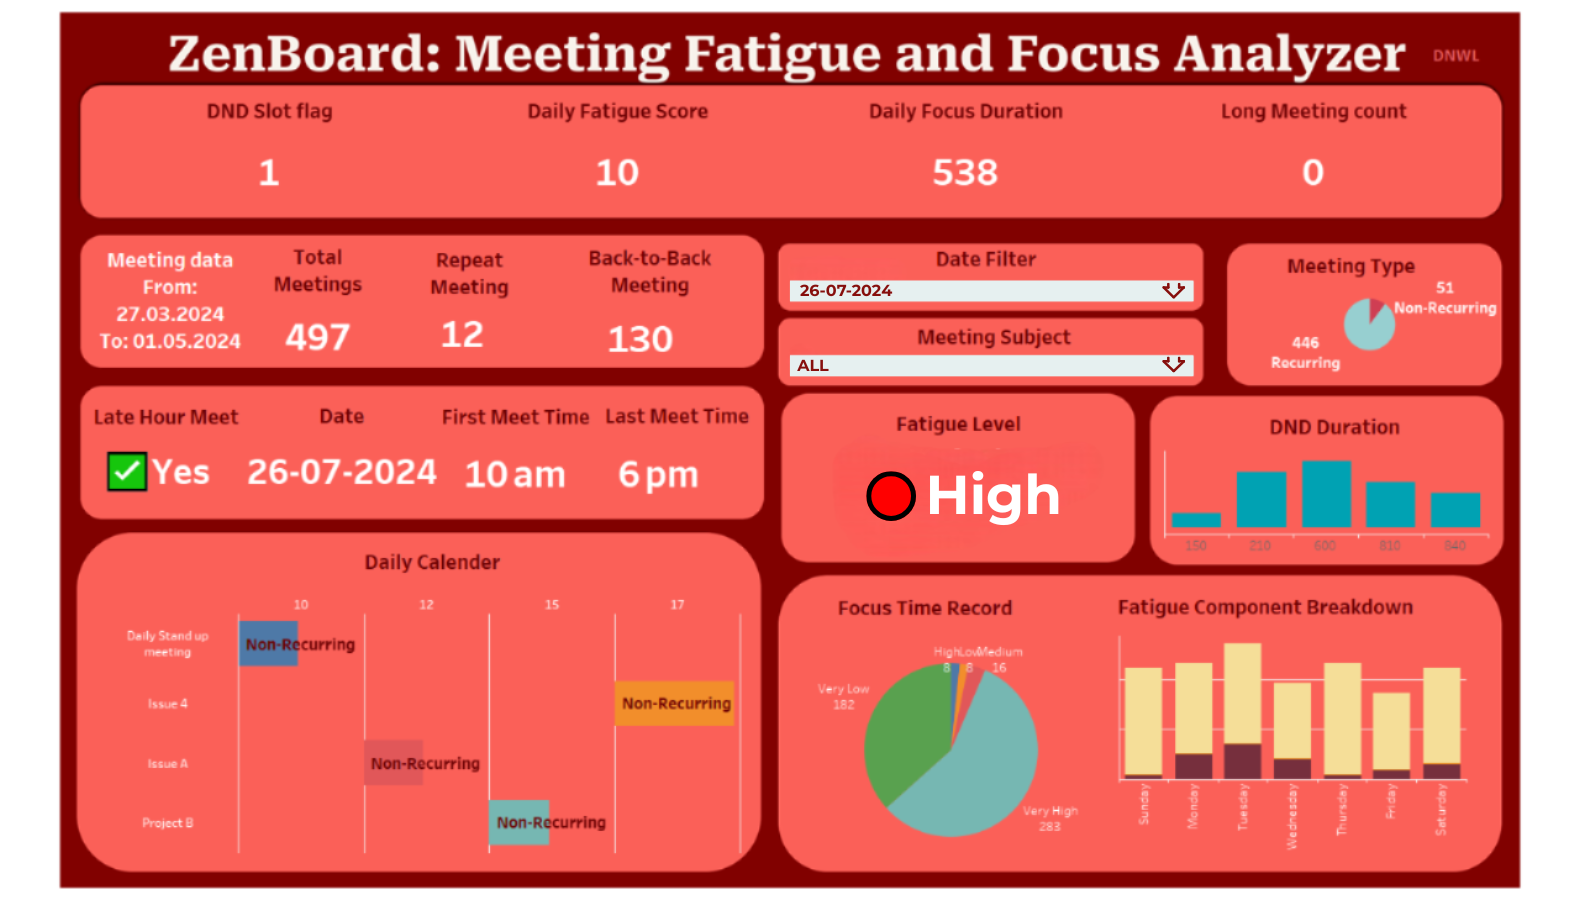

This screenshot's page, from the dashboard's own definition file:
{"tool":"tableau","page":{"name":"Dashboard 1","canvas":[1580,900],"ordinal":0},"visuals":[{"type":"image","param":"C:/Users/yasha/Downloads/Untitled presentation.png","box":[8,8,1564,884]},{"type":"dashboard-object","box":[1416,34,80,41]},{"type":"worksheet","title":"Sheet 5","mark":"Text","box":[96,90,1392,121]},{"type":"text","box":[549,224,202,93]},{"type":"text","box":[1267,228,168,74]},{"type":"text","box":[226,232,184,74]},{"type":"text","box":[388,235,163,74]},{"type":"text","box":[96,237,149,125]},{"type":"text","box":[933,243,106,30]},{"type":"worksheet","title":"Sheet 4","mark":"Pie","box":[1241,273,257,103]},{"type":"worksheet","title":"Sheet 12","mark":"Automatic","box":[433,292,88,83]},{"type":"worksheet","title":"Sheet 9","mark":"Automatic","box":[601,297,101,74]},{"type":"text","box":[910,305,168,62]},{"type":"worksheet","title":"Sheet 8","mark":"Automatic","box":[279,310,185,80]},{"type":"text","box":[867,381,183,84]},{"type":"text","box":[288,384,108,62]},{"type":"text","box":[598,384,158,62]},{"type":"text","box":[439,385,162,62]},{"type":"text","box":[1249,389,171,74]},{"type":"text","box":[91,395,155,42]},{"type":"worksheet","title":"Sheet 13","mark":"Automatic","box":[55,406,193,111]},{"type":"worksheet","title":"Sheet 6","mark":"Automatic","box":[833,429,243,134]},{"type":"worksheet","title":"Sheet 15","mark":"Automatic","box":[243,431,207,85]},{"type":"worksheet","title":"Sheet 11","mark":"Automatic","box":[456,432,155,114]},{"type":"worksheet","title":"Sheet 14","mark":"Automatic","box":[609,432,140,107]},{"type":"worksheet","title":"Sheet 7","mark":"Bar","rows":["Start Date"],"cols":["Calculation_443041633803968526"],"box":[1164,451,324,104]},{"type":"text","box":[344,524,177,74]},{"type":"text","box":[1115,569,368,74]},{"type":"text","box":[835,570,224,74]},{"type":"worksheet","title":"Sheet 1","mark":"GanttBar","rows":["Subject"],"cols":["Start Time"],"box":[98,594,643,259]},{"type":"worksheet","title":"Sheet 3","mark":"Bar","cols":["Start Date"],"box":[1119,636,347,223]},{"type":"worksheet","title":"Sheet 2","mark":"Pie","box":[799,641,304,218]}]}

Visuals, with their boxes in screenshot pixels (x1, y1, x2, y2), scaled from the page's 1580x900 canvas onto the 1580x900 screenshot:
image: l=8, t=8, r=1572, b=892
dashboard-object: l=1416, t=34, r=1496, b=75
"Sheet 5" worksheet (Text marks): l=96, t=90, r=1488, b=211
text: l=549, t=224, r=751, b=317
text: l=1267, t=228, r=1435, b=302
text: l=226, t=232, r=410, b=306
text: l=388, t=235, r=551, b=309
text: l=96, t=237, r=245, b=362
text: l=933, t=243, r=1039, b=273
"Sheet 4" worksheet (Pie marks): l=1241, t=273, r=1498, b=376
"Sheet 12" worksheet: l=433, t=292, r=521, b=375
"Sheet 9" worksheet: l=601, t=297, r=702, b=371
text: l=910, t=305, r=1078, b=367
"Sheet 8" worksheet: l=279, t=310, r=464, b=390
text: l=867, t=381, r=1050, b=465
text: l=288, t=384, r=396, b=446
text: l=598, t=384, r=756, b=446
text: l=439, t=385, r=601, b=447
text: l=1249, t=389, r=1420, b=463
text: l=91, t=395, r=246, b=437
"Sheet 13" worksheet: l=55, t=406, r=248, b=517
"Sheet 6" worksheet: l=833, t=429, r=1076, b=563
"Sheet 15" worksheet: l=243, t=431, r=450, b=516
"Sheet 11" worksheet: l=456, t=432, r=611, b=546
"Sheet 14" worksheet: l=609, t=432, r=749, b=539
"Sheet 7" worksheet (Bar marks): l=1164, t=451, r=1488, b=555
text: l=344, t=524, r=521, b=598
text: l=1115, t=569, r=1483, b=643
text: l=835, t=570, r=1059, b=644
"Sheet 1" worksheet (GanttBar marks): l=98, t=594, r=741, b=853
"Sheet 3" worksheet (Bar marks): l=1119, t=636, r=1466, b=859
"Sheet 2" worksheet (Pie marks): l=799, t=641, r=1103, b=859
